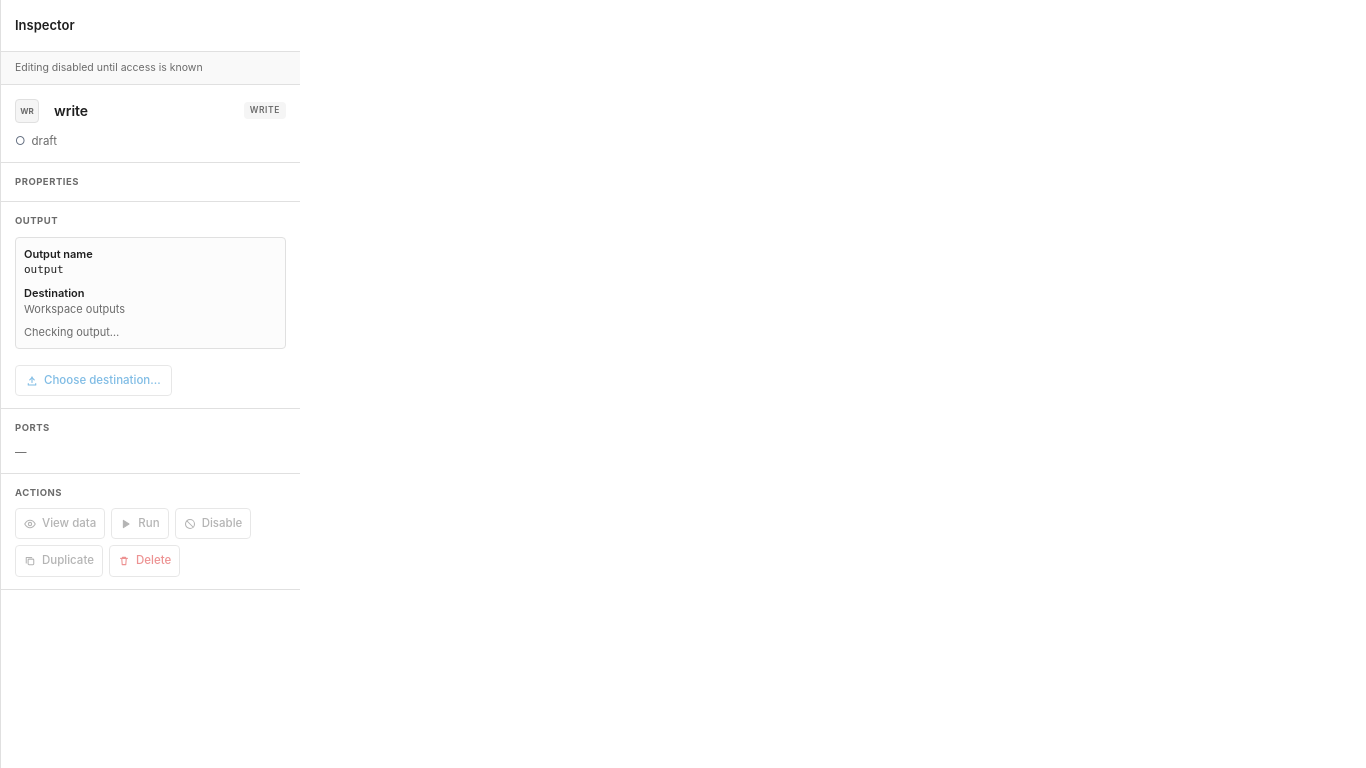
Test: Inspector — effective named outputs › shows configured destinations without exposing Settings to an editor
Click the button "Choose destination…".
click(93, 381)  # box left=15, top=365, right=172, bottom=396
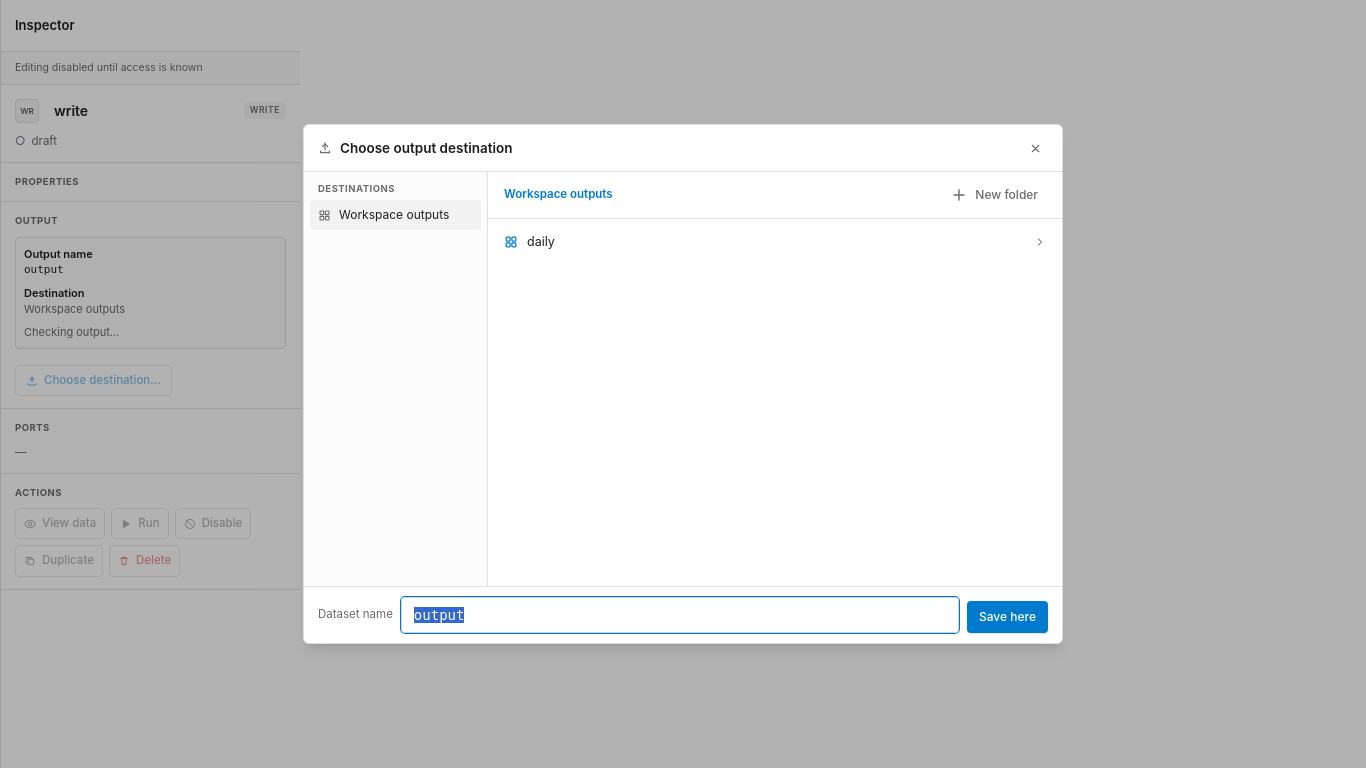
Expected: the button "Workspace outputs" below "Destinations" is shown, left=310, top=200, right=481, bottom=230
Expected: the text "Dataset name" is shown, left=318, top=606, right=393, bottom=624
